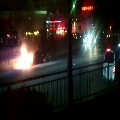fire: (14, 44, 33, 68)
